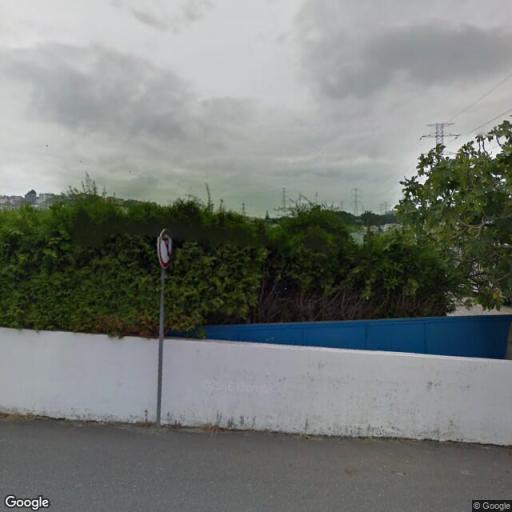ss_3: (418, 117, 460, 172), (350, 182, 364, 216)
